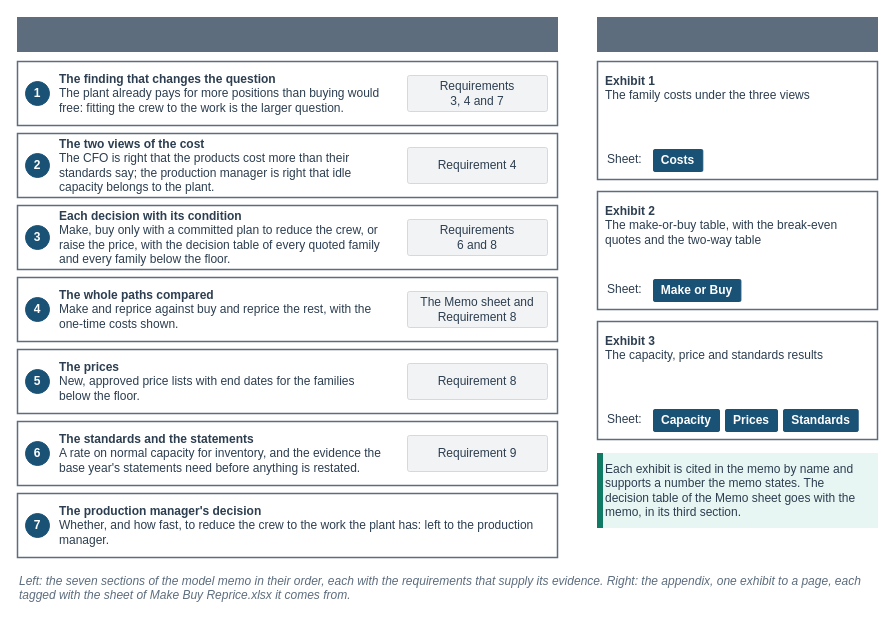
The diagram is 896 pixels wide and 625 high, and some of its shapes have lost their labels. The box of each missing label's shape, as (x1, y1, x2, y2) in pixels:
The appendix : no more than three pages: (596, 16, 878, 52)
The memo : no more than two pages, to the CFO and the production manager: (16, 16, 558, 52)
